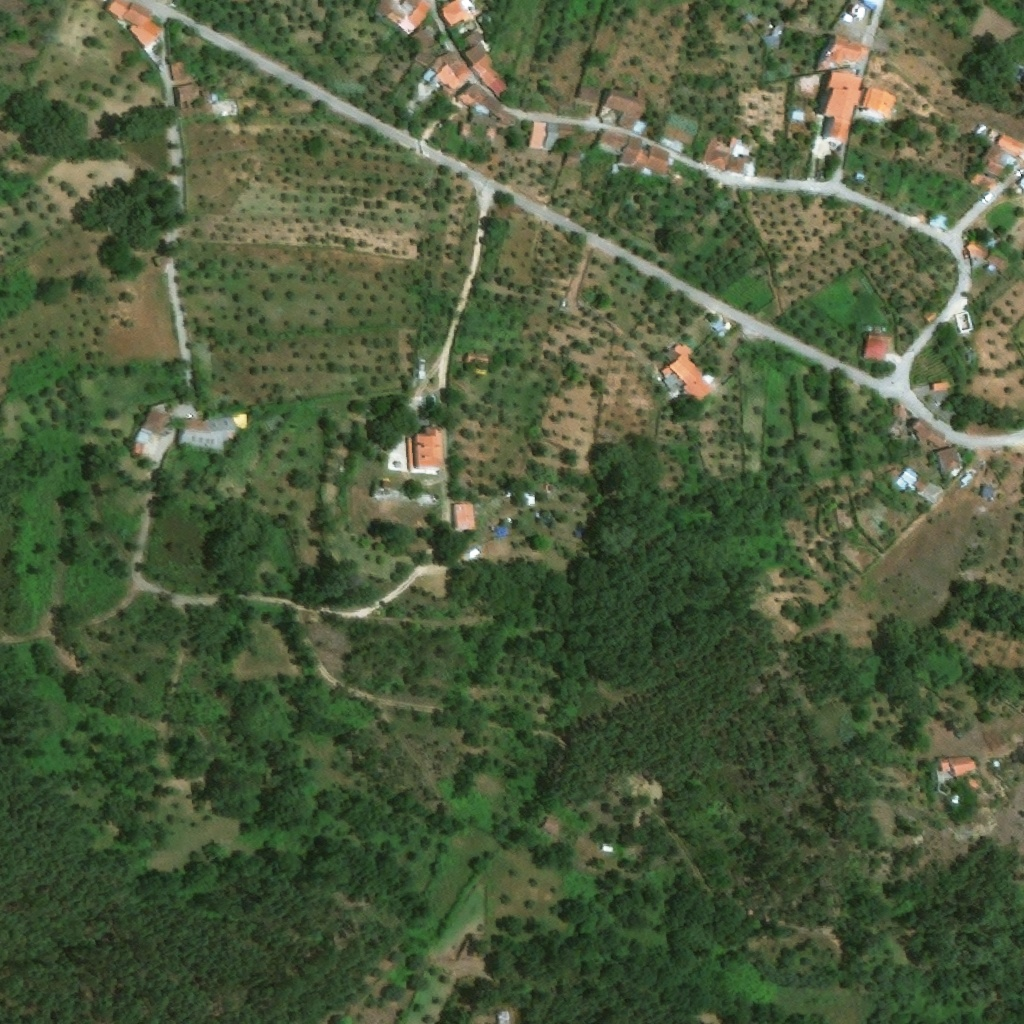0 no-damage: (819, 88, 896, 143), (668, 342, 714, 406), (458, 94, 519, 139), (173, 415, 238, 454), (815, 36, 872, 79), (596, 86, 647, 133), (616, 135, 668, 177), (428, 52, 468, 103), (407, 425, 446, 467), (437, 0, 482, 35), (653, 119, 688, 151), (908, 417, 945, 447), (470, 54, 500, 90), (400, 0, 431, 34), (912, 474, 945, 505), (460, 29, 486, 68), (128, 425, 160, 456), (935, 446, 964, 479), (129, 19, 163, 47), (702, 139, 729, 172), (861, 333, 892, 361), (597, 130, 630, 156), (938, 756, 980, 776), (455, 83, 487, 109), (141, 407, 169, 436), (372, 478, 402, 502), (124, 1, 153, 25), (664, 370, 685, 402), (994, 132, 1023, 155), (453, 503, 477, 530), (889, 403, 908, 437), (726, 154, 754, 176), (826, 72, 860, 90), (964, 238, 991, 259), (895, 466, 918, 490), (985, 250, 1009, 272), (410, 28, 435, 49), (529, 121, 547, 150), (104, 0, 130, 20), (542, 123, 560, 151), (970, 172, 997, 190), (175, 83, 197, 105), (489, 78, 509, 101), (982, 156, 1005, 176), (577, 84, 599, 103), (391, 0, 414, 18), (929, 210, 950, 229), (169, 60, 187, 82), (414, 80, 432, 102), (212, 100, 236, 116), (386, 8, 406, 27), (541, 816, 560, 835), (178, 419, 210, 430), (134, 427, 153, 445), (730, 137, 747, 157), (921, 306, 939, 324), (760, 34, 779, 51), (415, 51, 432, 68), (465, 353, 488, 365), (377, 0, 394, 16), (632, 120, 648, 136), (151, 254, 169, 268), (931, 378, 951, 390), (565, 153, 581, 168), (233, 414, 248, 429), (422, 69, 436, 83), (559, 124, 572, 139), (983, 236, 997, 249), (659, 364, 673, 376), (790, 110, 804, 122), (495, 1011, 509, 1023), (961, 472, 973, 485), (741, 13, 753, 25), (851, 172, 865, 182), (601, 844, 614, 854), (697, 1015, 711, 1023), (982, 488, 992, 499), (560, 299, 568, 309), (528, 493, 536, 500)
4 un-classified: (858, 0, 882, 10), (427, 119, 441, 134)
